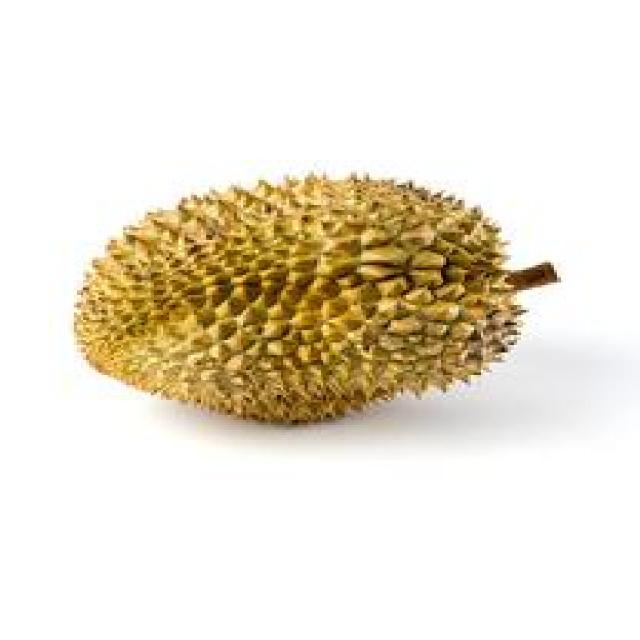fruit: (43, 135, 419, 463)
